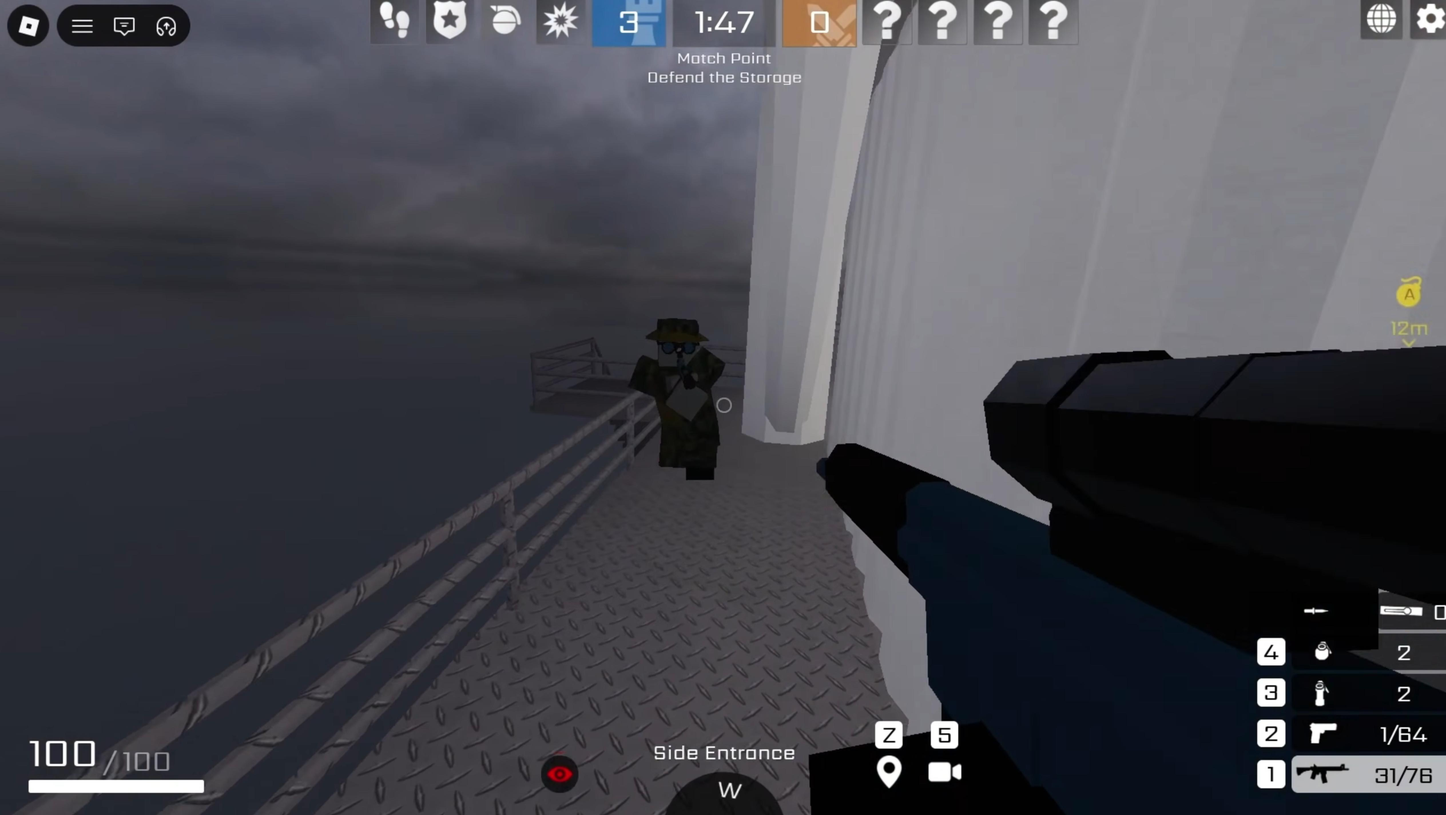enemy: (626, 311, 739, 490)
